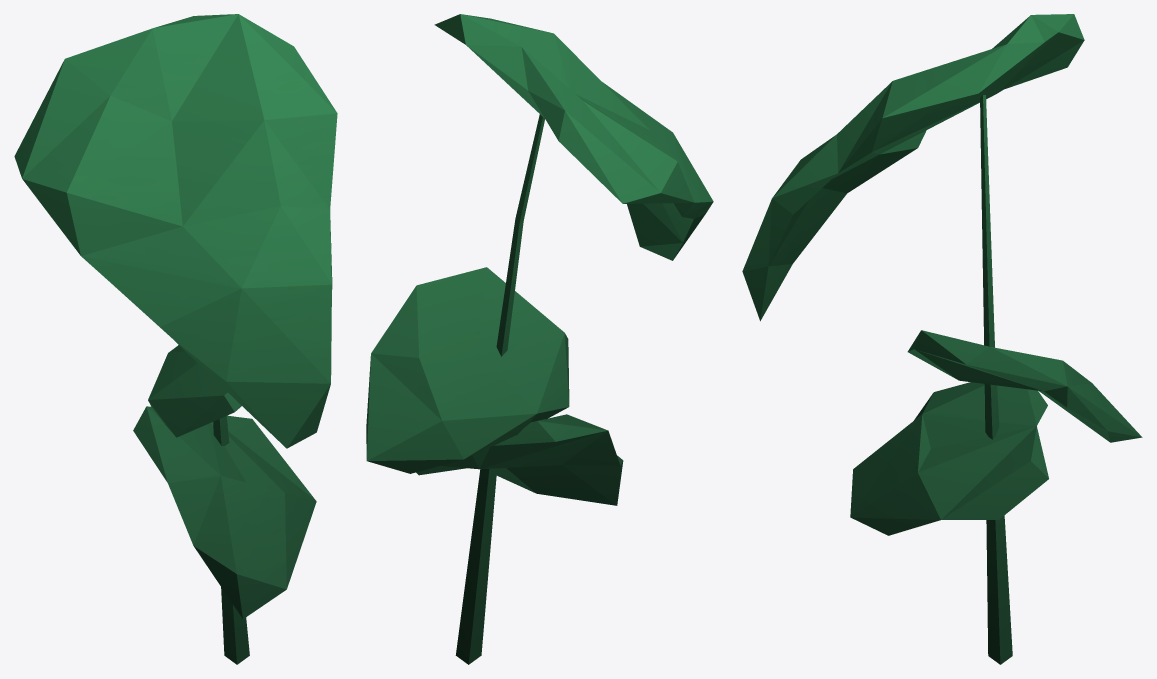
File: ZLP_Grass_D_4.FBX
3 renders of one model, left to right at view 1: azimuth 30°, elevation 25°; view 2: azimuth 150°, elevation 25°; view 3: azimuth 270°, elevation 25°, orthographic. The views are drawn at different scales.
Parts seen in each view (by area): view 1: ZLP_Grass_D_4; view 2: ZLP_Grass_D_4; view 3: ZLP_Grass_D_4.
Boxes of the visible parts, x1,y1,x2,y2 form: ZLP_Grass_D_4: (14,14,337,664); ZLP_Grass_D_4: (366,14,713,664); ZLP_Grass_D_4: (742,14,1142,664).
Size of the model in its own units: 59.04 by 135 by 79.42.
